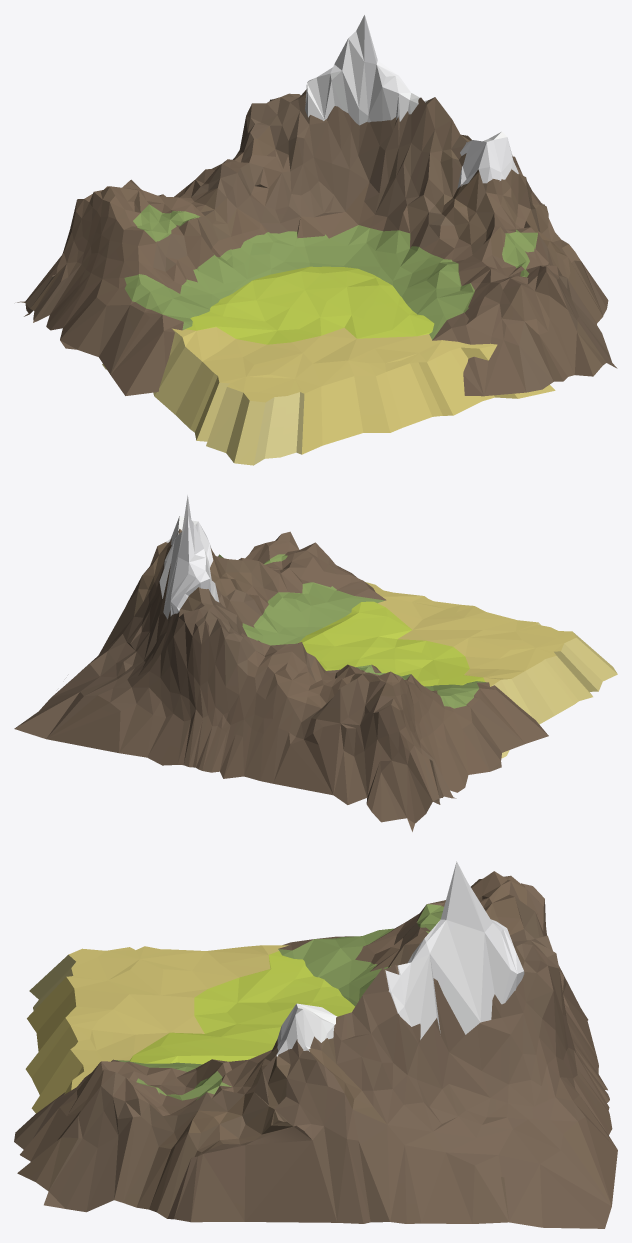
Rendered from island.obj.
3 renders of one model, top to bottom at view 1: azimuth 30°, elevation 25°; view 2: azimuth 150°, elevation 25°; view 3: azimuth 270°, elevation 25°, orthographic. The views are drawn at different scales.
Visible parts, largest first — view 1: Land_1.001; view 2: Land_1.001; view 3: Land_1.001.
Part boxes in pixels (box(x1,y1,x2,y2)): Land_1.001: box(17, 15, 617, 465); Land_1.001: box(14, 495, 617, 831); Land_1.001: box(14, 861, 617, 1228).
Size of the model in its own units: 29.54 by 16.46 by 28.34.
Materials: 1 (1 with a texture image).
